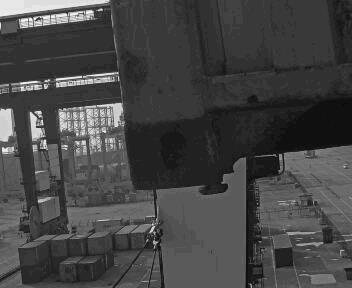twist_lock_1: (161, 170, 239, 207)
